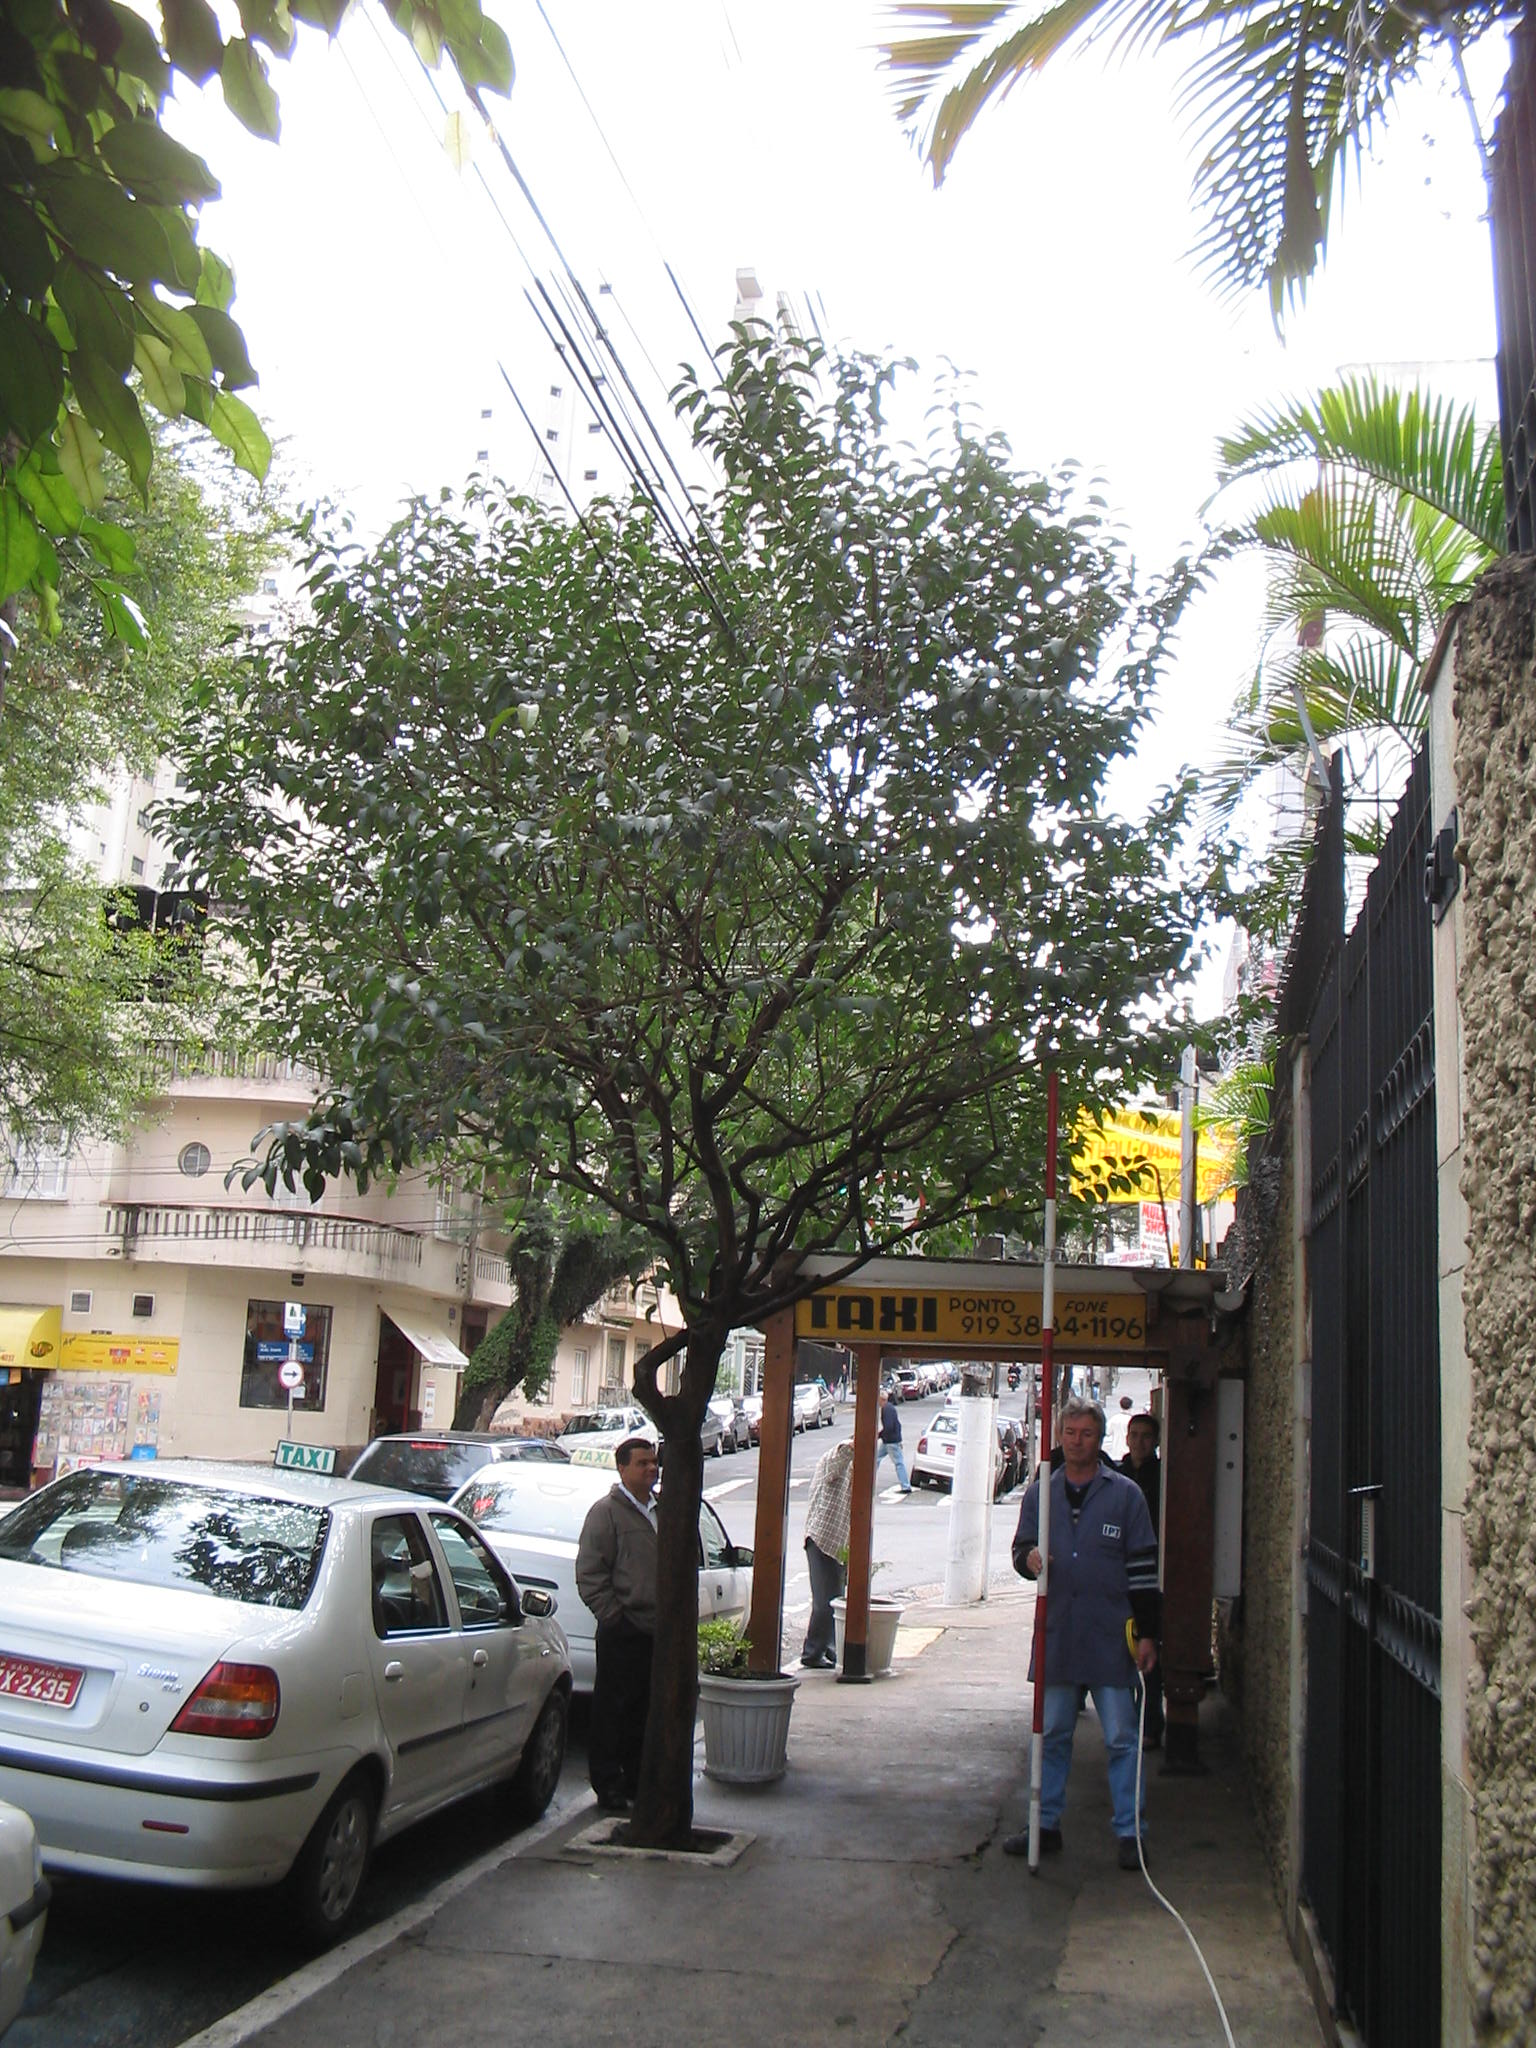crown: (157, 297, 1278, 1324)
stem: (620, 1408, 739, 1832)
stick: (1007, 1076, 1089, 1871)
tree: (152, 297, 1281, 1834)
